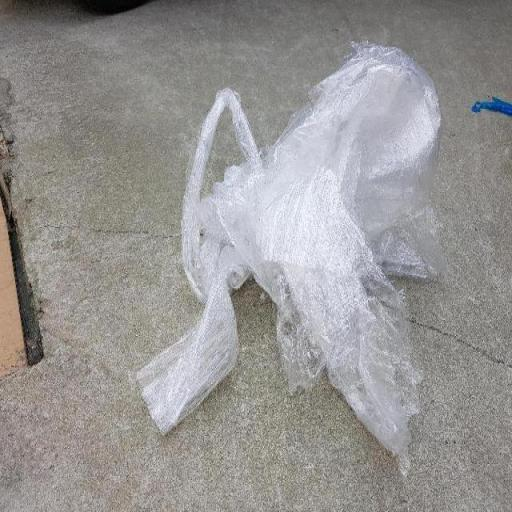plastic-bag: (135, 44, 447, 474)
